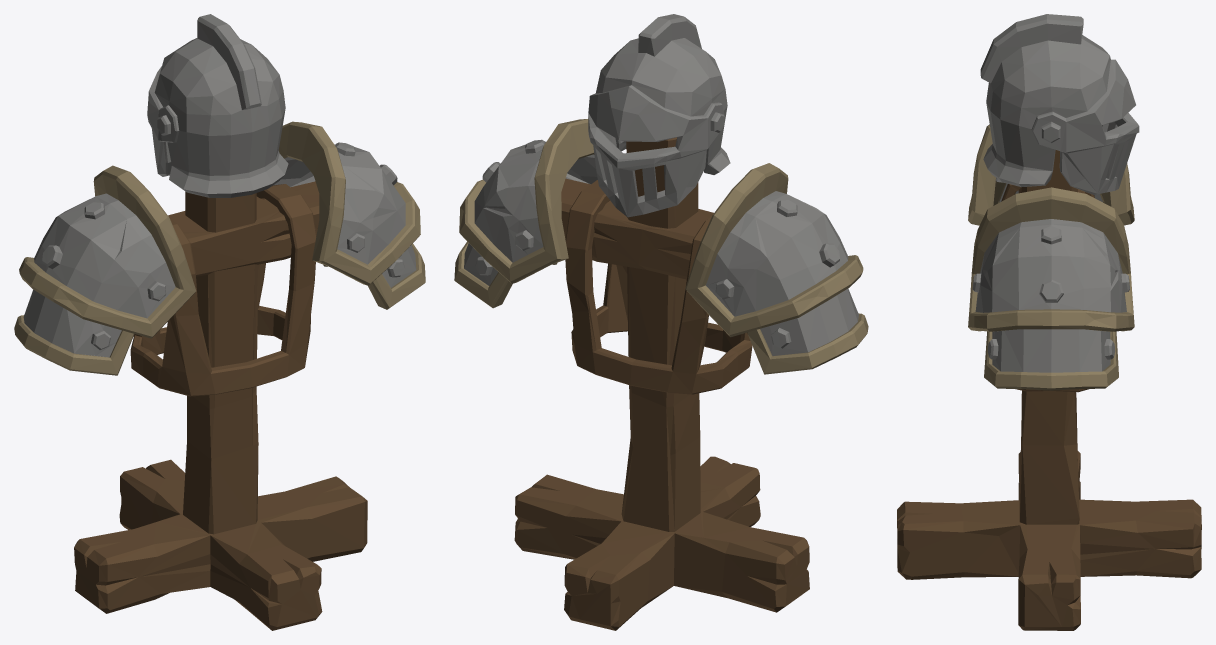
File: KnightArmorDisplay.fbx
The picture shows the model from 3 angles, left to right: view 1: azimuth 30°, elevation 25°; view 2: azimuth 150°, elevation 25°; view 3: azimuth 270°, elevation 25°; orthographic projection.
Parts seen in each view (by area): view 1: KnightArmorDisplay; view 2: KnightArmorDisplay; view 3: KnightArmorDisplay.
Part boxes in pixels (x1,y1,x2,y2): KnightArmorDisplay: (14,14,425,630); KnightArmorDisplay: (454,14,868,630); KnightArmorDisplay: (897,14,1201,630).
Size of the model in its own units: 0.9258 by 0.6224 by 1.24.
